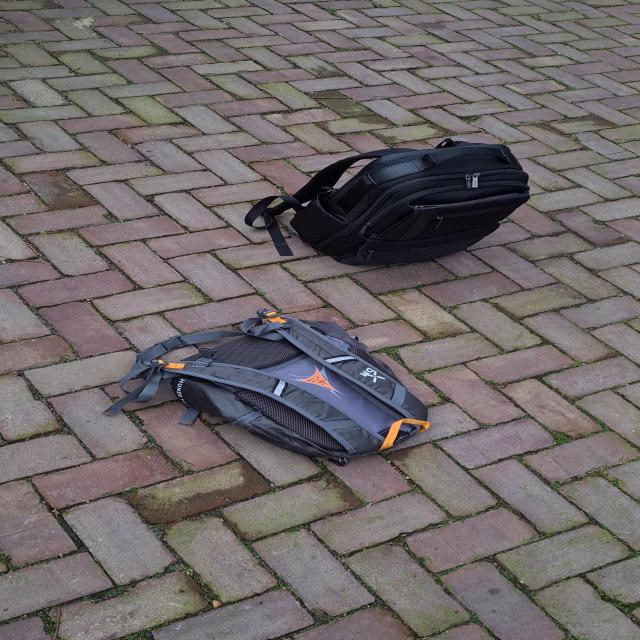backpack: (109, 312, 435, 470), (283, 140, 541, 274)
